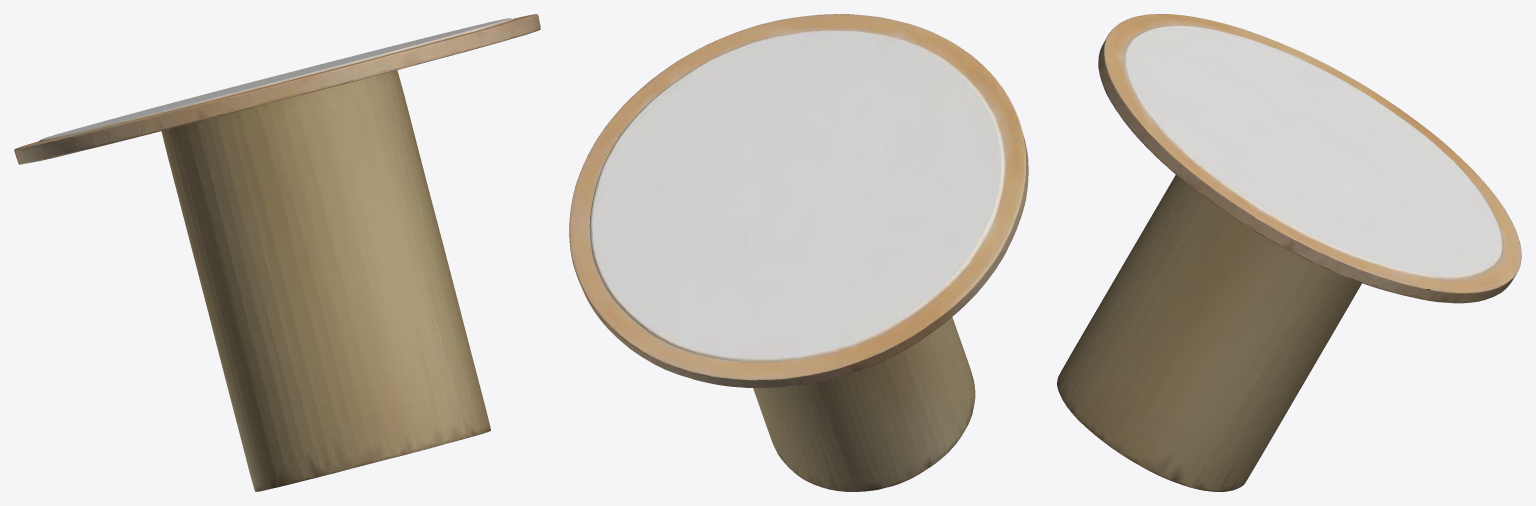
The model's file is round_wooden_dining_table_with_white_top_000.glb.
3 renders of one model, left to right at view 1: azimuth 30°, elevation 25°; view 2: azimuth 150°, elevation 25°; view 3: azimuth 270°, elevation 25°, orthographic. The views are drawn at different scales.
Visible parts, largest first — view 1: round_wooden_dining_table_with_white_top_000.obj; view 2: round_wooden_dining_table_with_white_top_000.obj; view 3: round_wooden_dining_table_with_white_top_000.obj.
Boxes of the visible parts, x1=… form: round_wooden_dining_table_with_white_top_000.obj: x1=14, y1=14, x2=540, y2=491; round_wooden_dining_table_with_white_top_000.obj: x1=569, y1=14, x2=1028, y2=491; round_wooden_dining_table_with_white_top_000.obj: x1=1057, y1=14, x2=1521, y2=491.
Size of the model in its own units: 0.7898 by 0.7734 by 0.7753.
Materials: 1 (1 with a texture image).
